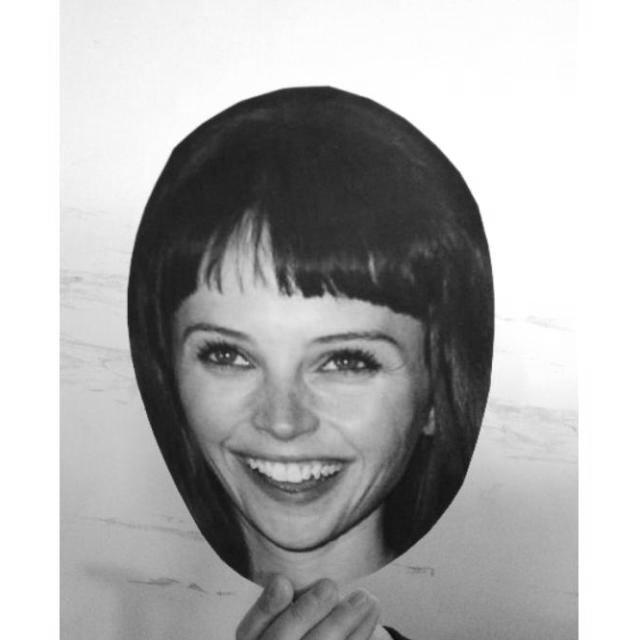fake: (117, 82, 500, 608)
